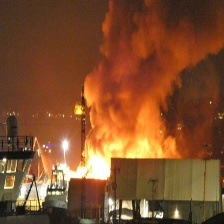fire: (59, 163, 116, 180)
smoke: (71, 1, 221, 156)
